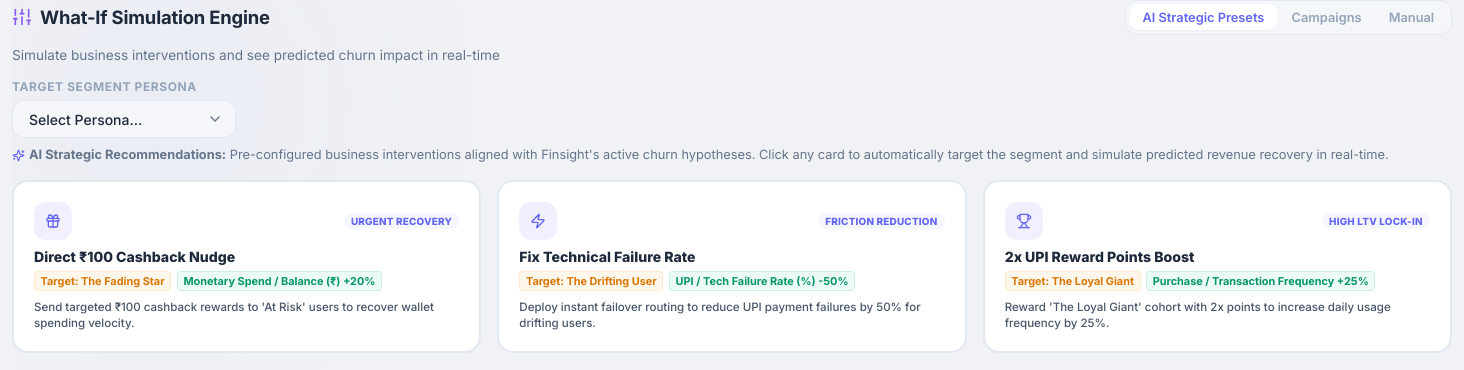
Test: WhatIfPanel › switches to Campaign mode on click
Click the button "Campaigns".
click(1326, 17)  # box [1278,4,1375,30]
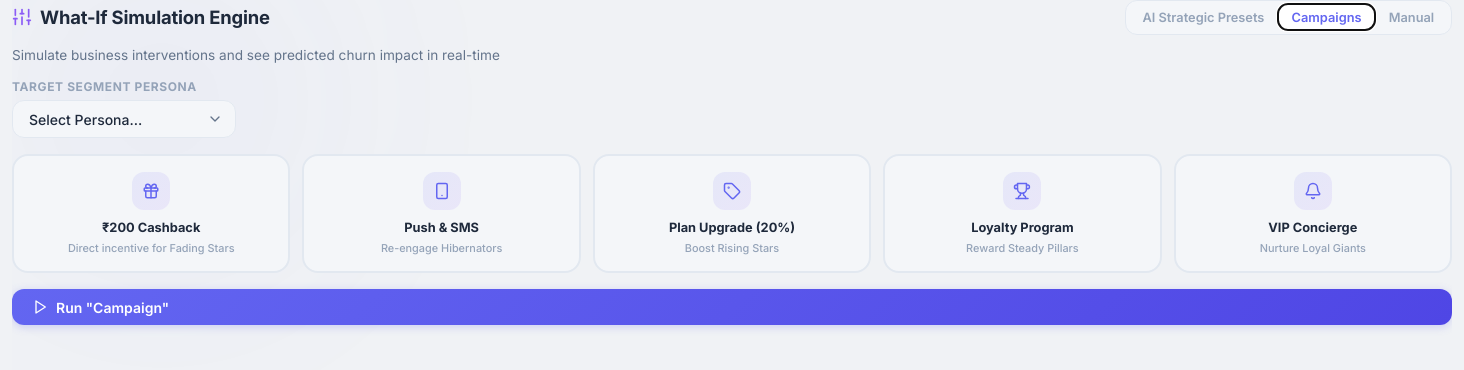
Check: the text "₹200 Cashback" is shown, box [102,220,200,235]
